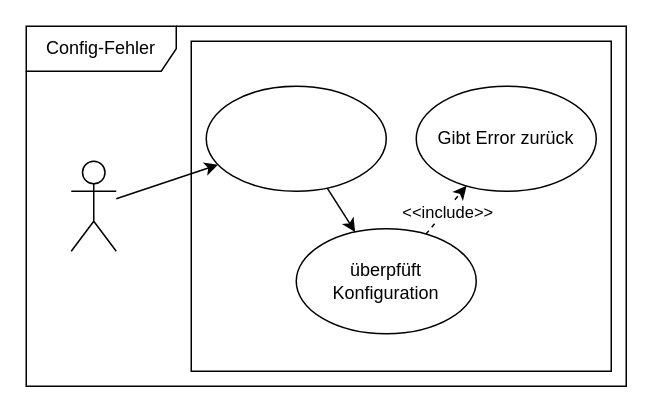
Image size: 653x413. Some labels were removed from this diagram. Here are the shapes that lost their labels. From the top down, the centre of each, then its label:
At (295,138): "Eingabe der Buch URL".
At (93,205): "User".
